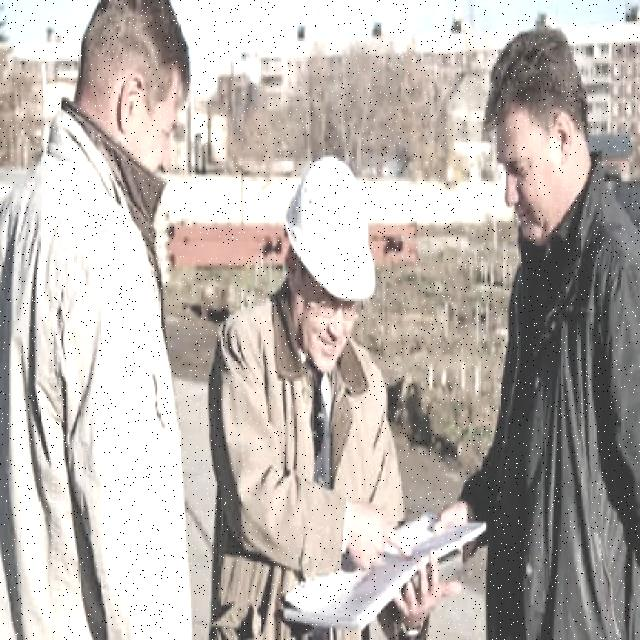Helmet: (283, 152, 377, 302)
